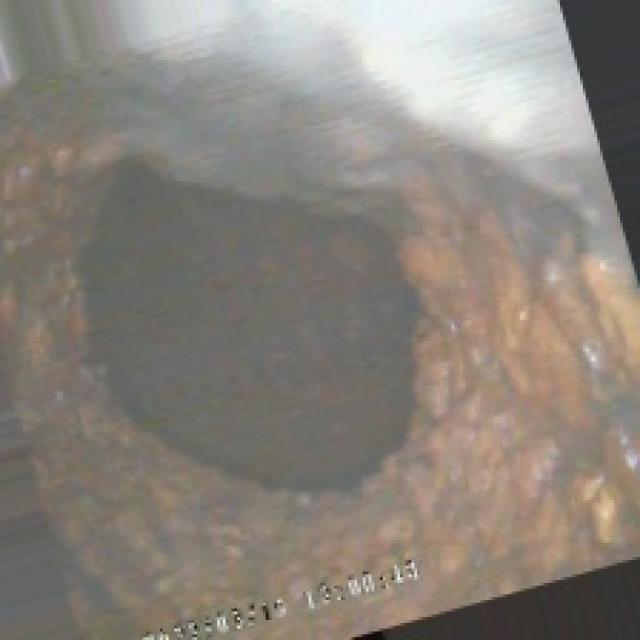encrustation: (60, 123, 426, 508)
